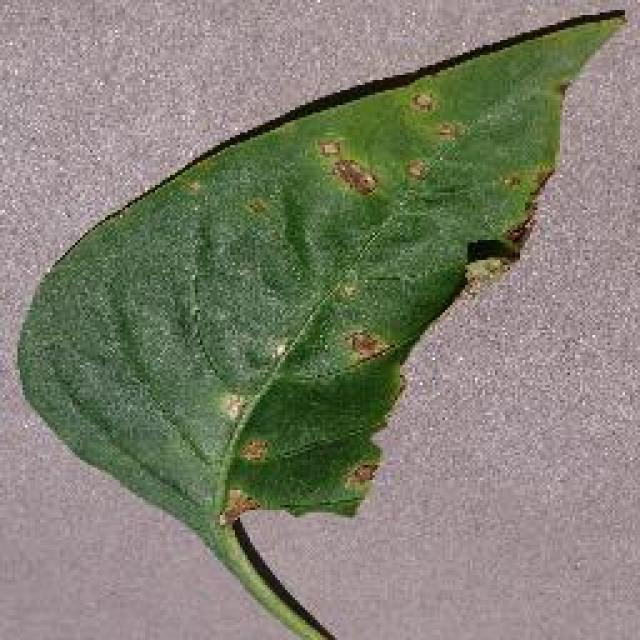Chilli_Bacterial_Spot: (10, 2, 630, 638), (190, 75, 552, 530), (308, 85, 468, 205), (328, 155, 380, 200), (212, 482, 260, 530), (340, 325, 390, 370), (458, 253, 510, 295), (338, 455, 382, 493), (215, 387, 250, 425), (235, 435, 273, 467), (325, 275, 363, 307), (400, 155, 432, 187), (238, 190, 272, 220), (405, 88, 437, 118), (430, 117, 462, 145), (312, 135, 342, 163)
